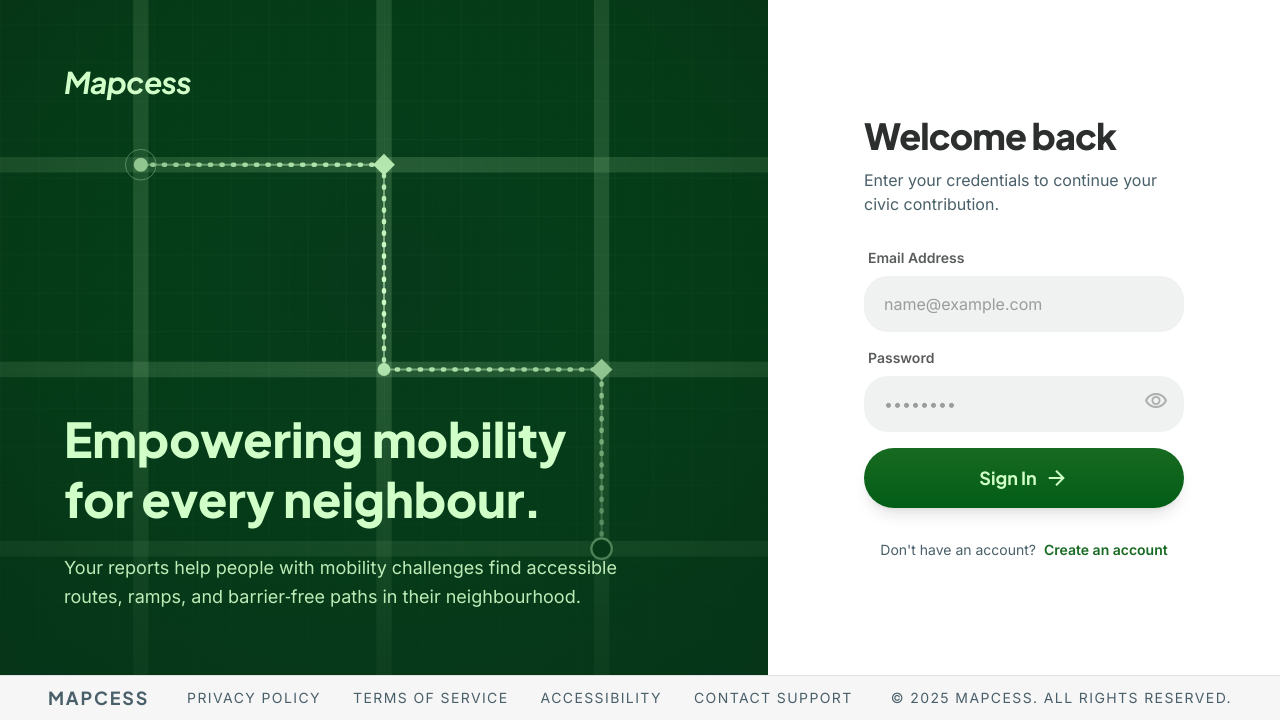
Test: Login page › form submission › shows an error message on failed login
Type "a@b.com" into the field labelled "Email Address" at coordinates (1024, 304), box x1=864 y1=276 x2=1184 y2=332
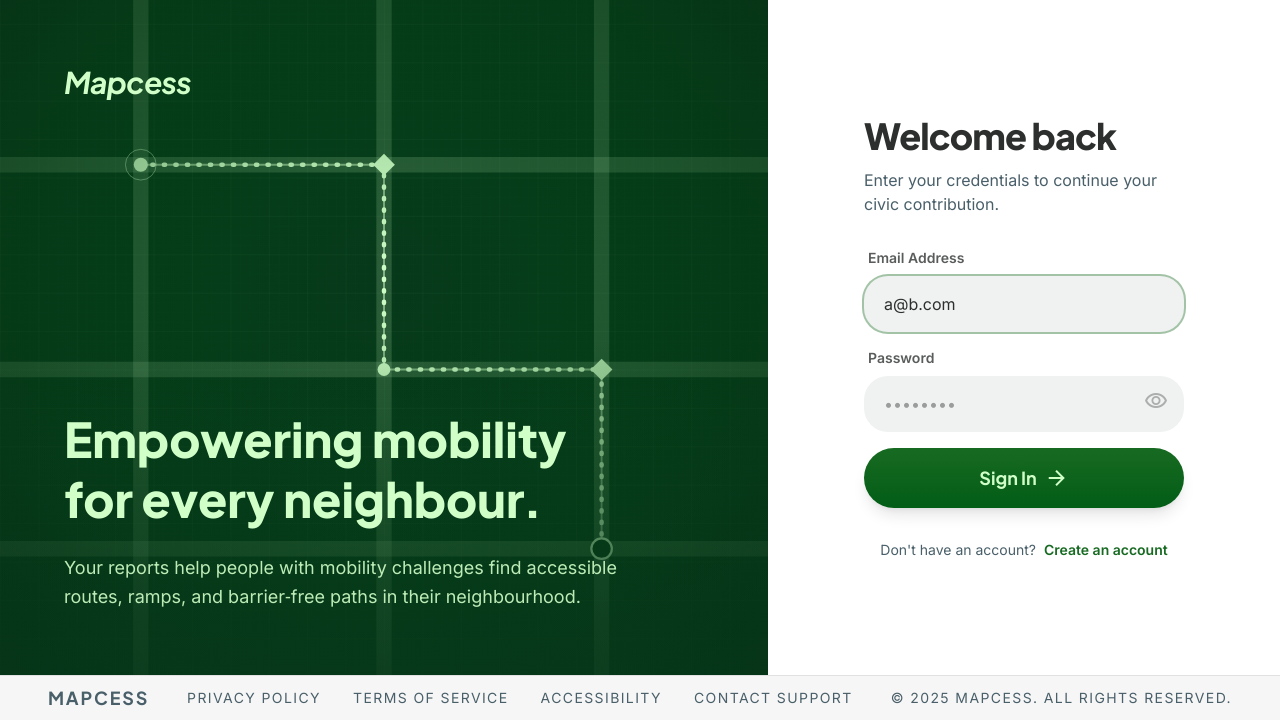
Type "wrong" into the password field labelled "Password" at coordinates (1024, 404), box x1=864 y1=376 x2=1184 y2=432
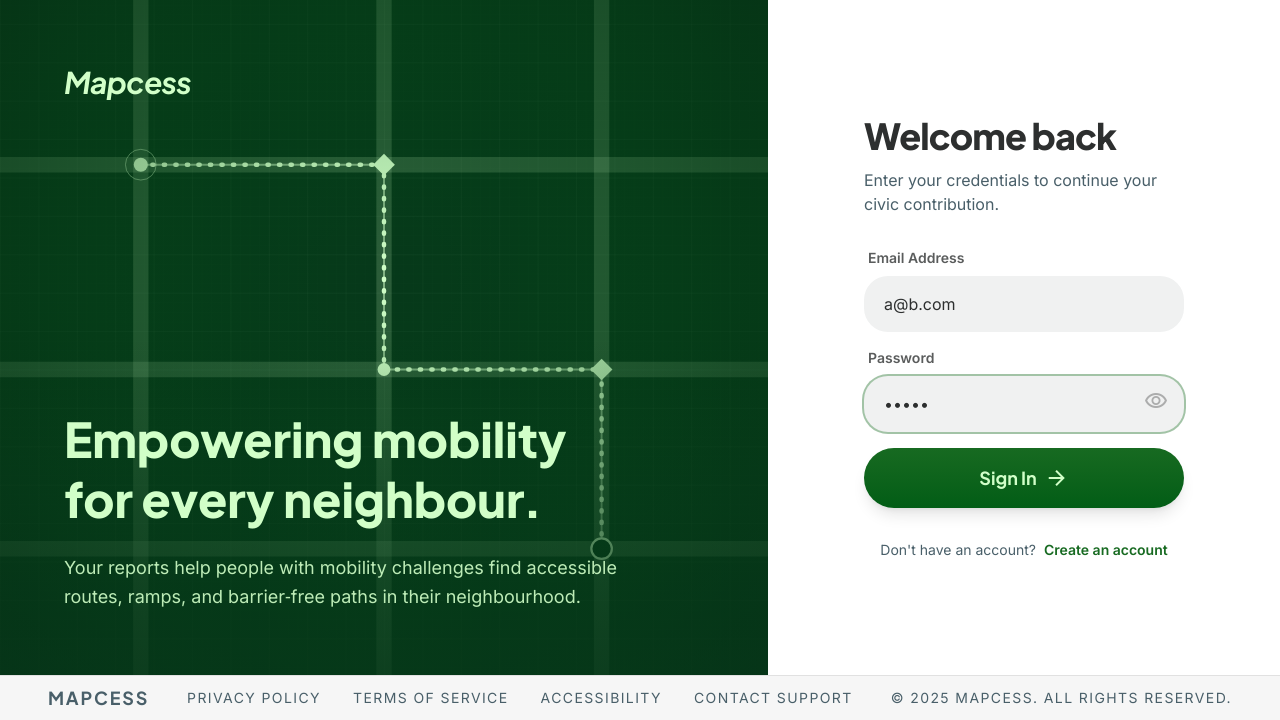
Click the button "Sign In" at coordinates (1024, 478), box x1=864 y1=448 x2=1184 y2=508
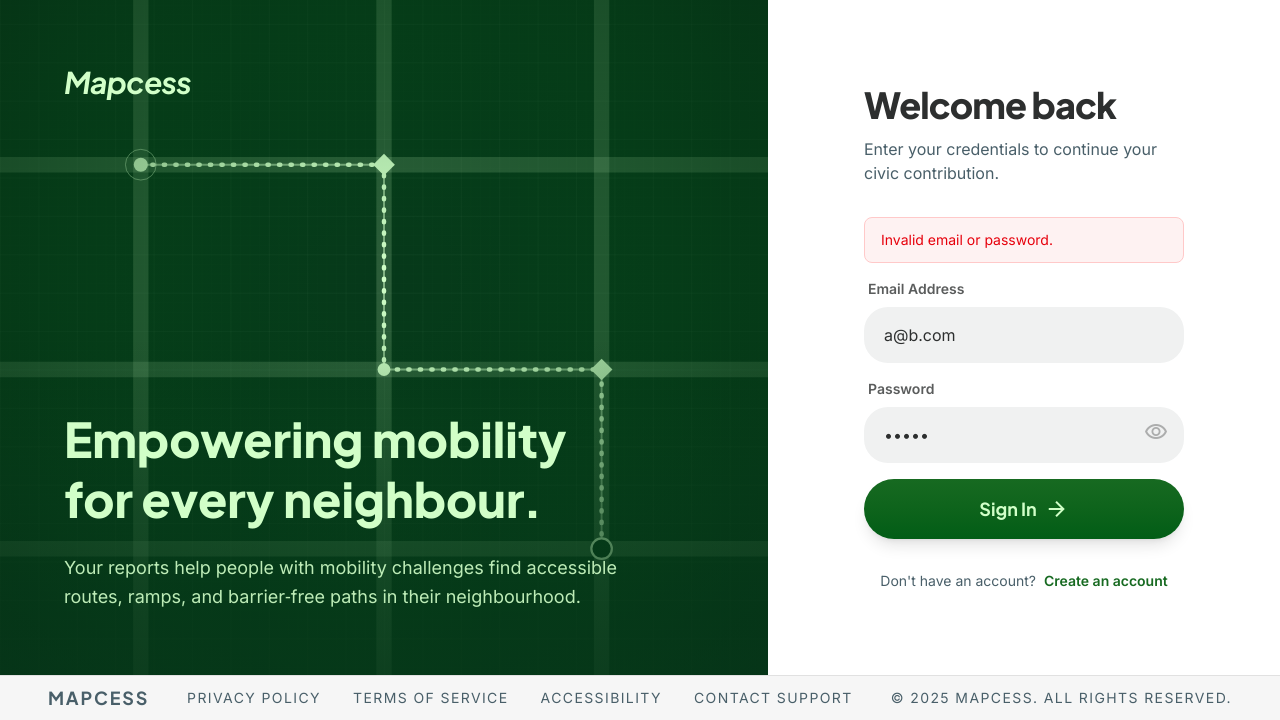
Result: the text "Invalid email or password." is shown at x1=864 y1=216 x2=1184 y2=262
